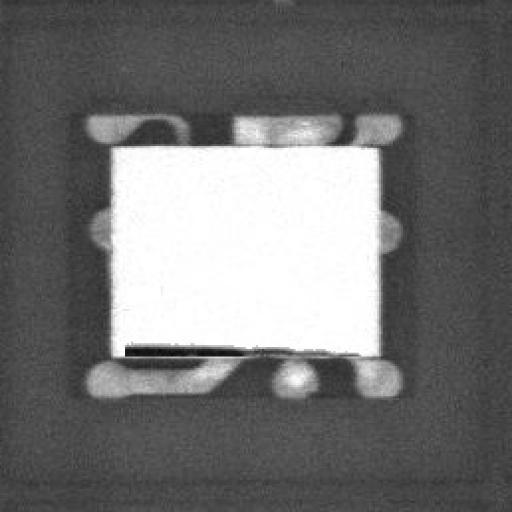DIE_BROKEN: (119, 336, 345, 358)
